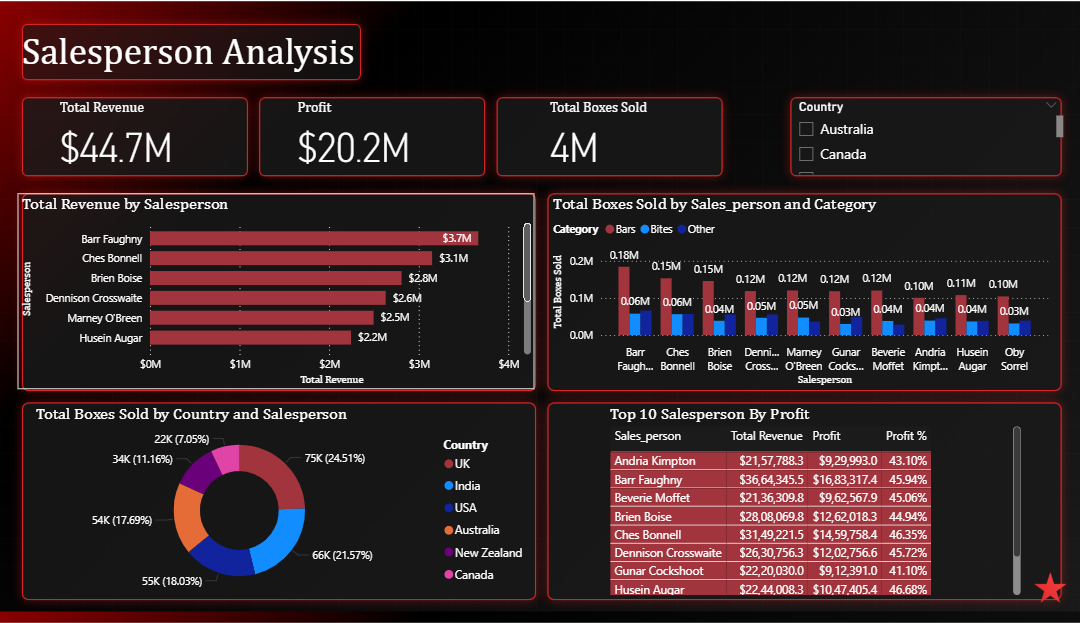

This screenshot's page, from the dashboard's own definition file:
{"tool":"powerbi","page":{"name":"Salesperson Analysis","canvas":[1280,720],"ordinal":2},"visuals":[{"type":"image","box":[16,0,1264,720],"z":0},{"type":"textbox","box":[48,32,416,64],"z":1000},{"type":"barChart","title":"Total Revenue by Salesperson","fields":{"Category":["people.Sales_person"],"Y":["All Mesaures.Total Revenue"]},"box":[48,224,592,224],"z":2000},{"type":"clusteredColumnChart","fields":{"Category":["people.Sales_person"],"Series":["products.Category"],"Y":["All Mesaures.Total Boxes Sold"]},"box":[656,224,576,224],"z":3000},{"type":"tableEx","title":"Top 10 Salesperson By Profit","fields":{"Values":["people.Sales_person","All Mesaures.Total Revenue","All Mesaures.Profit","All Mesaures.Profit %"]},"box":[720,464,480,224],"z":4000},{"type":"donutChart","title":"Total Boxes Sold by Country and Salesperson","fields":{"Category":["locations.Geo"],"Series":["people.Sales_person"],"Y":["All Mesaures.Total Boxes Sold"]},"box":[64,464,576,224],"z":5000},{"type":"cardVisual","fields":{"Data":["All Mesaures.Total Revenue"]},"box":[80,112,208,96],"z":6000},{"type":"cardVisual","fields":{"Data":["All Mesaures.Profit"]},"box":[352,112,208,96],"z":7000},{"type":"cardVisual","fields":{"Data":["All Mesaures.Total Boxes Sold"]},"box":[640,112,208,96],"z":8000},{"type":"slicer","fields":{"Values":["locations.Geo"]},"box":[928,112,320,96],"z":9000}]}

Visuals, with their boxes in screenshot pixels (x1, y1, x2, y2), scaled from the page's 1280x720 canvas onto the 1080x623 screenshot:
image: <box>14,0,1079,622</box>
textbox: <box>40,28,392,83</box>
"Total Revenue by Salesperson" barChart: <box>40,194,540,388</box>
clusteredColumnChart - people.Sales_person x products.Category: <box>554,194,1040,388</box>
"Top 10 Salesperson By Profit" tableEx: <box>608,401,1012,595</box>
"Total Boxes Sold by Country and Salesperson" donutChart: <box>54,401,540,595</box>
cardVisual - All Mesaures.Total Revenue: <box>68,97,243,180</box>
cardVisual - All Mesaures.Profit: <box>297,97,472,180</box>
cardVisual - All Mesaures.Total Boxes Sold: <box>540,97,716,180</box>
slicer - locations.Geo: <box>783,97,1053,180</box>
